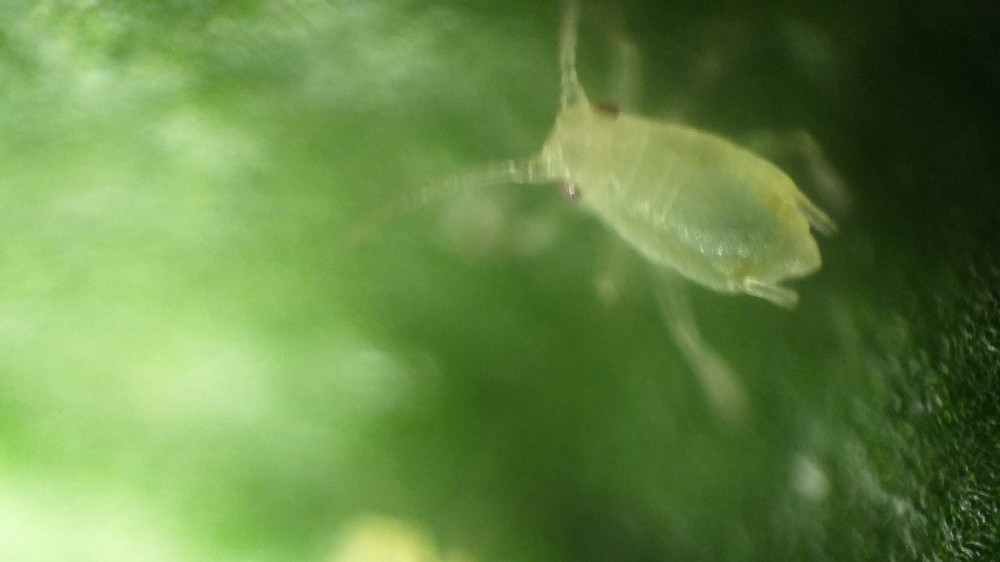Pulgon: (440, 14, 936, 399)
